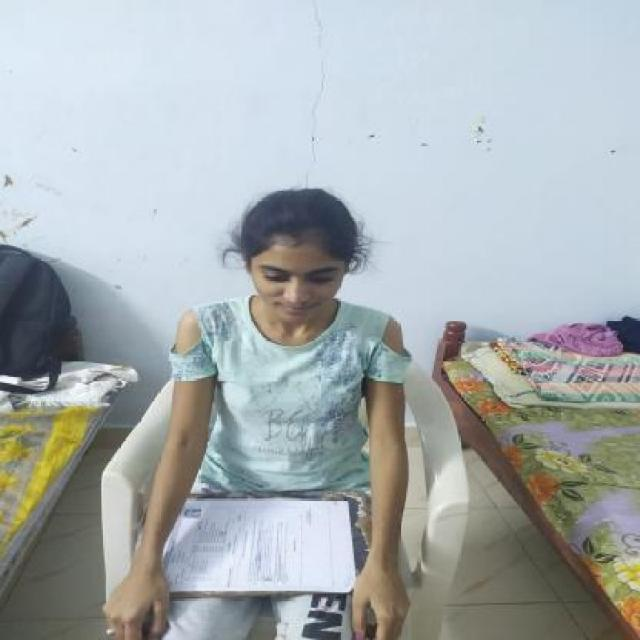good: (132, 167, 440, 484)
